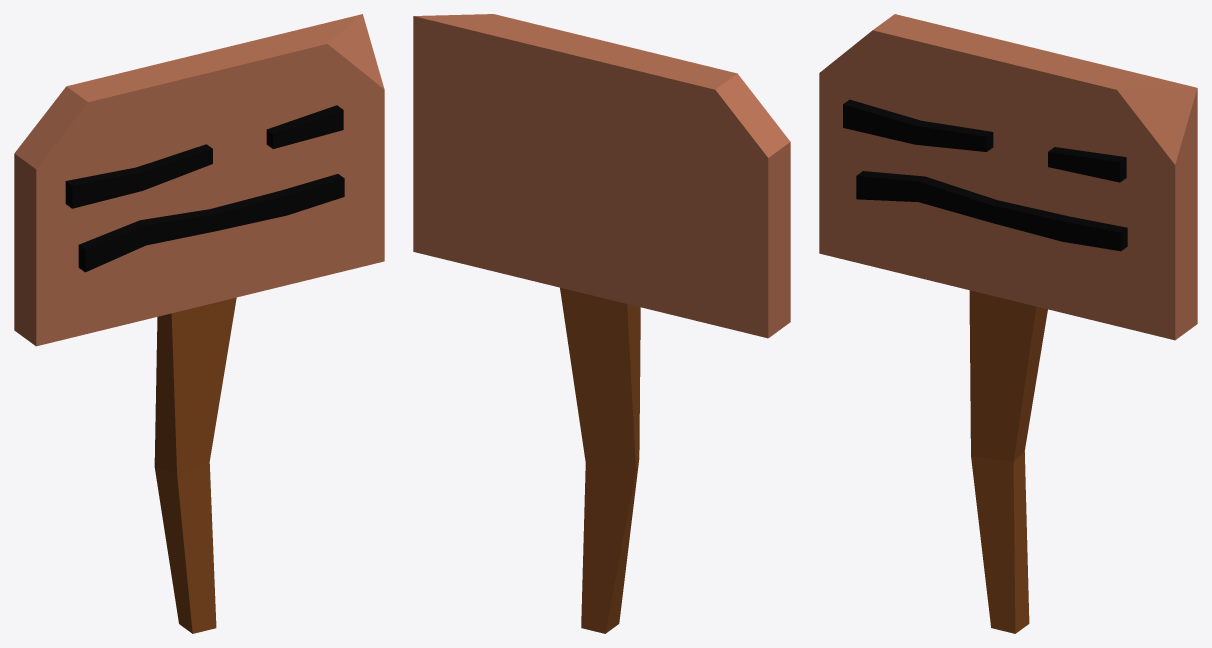
File: Sellers Price Notice 02.fbx
The picture shows the model from 3 angles, left to right: view 1: azimuth 30°, elevation 25°; view 2: azimuth 150°, elevation 25°; view 3: azimuth 330°, elevation 25°; orthographic projection. The views are drawn at different scales.
Parts seen in each view (by area): view 1: Sellers Price Notice 02; view 2: Sellers Price Notice 02; view 3: Sellers Price Notice 02.
Part boxes in pixels (box(x1,y1,x2,y2)): Sellers Price Notice 02: box(14, 14, 384, 633); Sellers Price Notice 02: box(413, 14, 790, 633); Sellers Price Notice 02: box(819, 14, 1197, 633).
Size of the model in its own units: 53.58 by 82.7 by 7.59.
